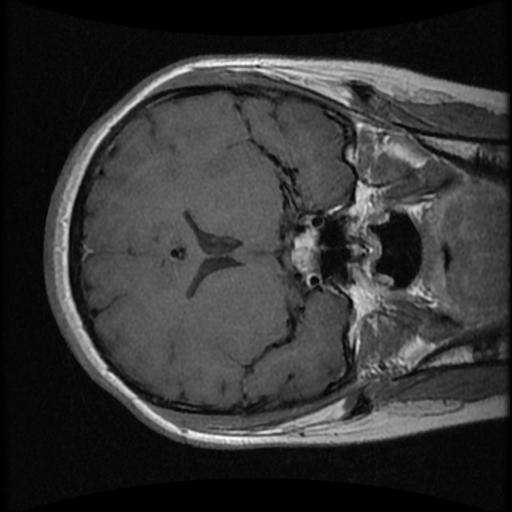pituitary tumour: (293, 227, 321, 274)
